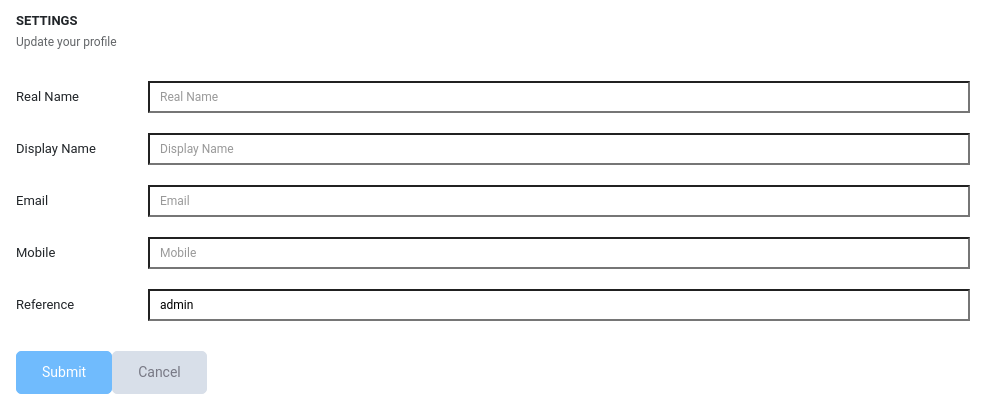
it: setting › should show a required field warning for each empty input field
Click the button "Submit". click: (64, 372)
box: [16,351,112,394]
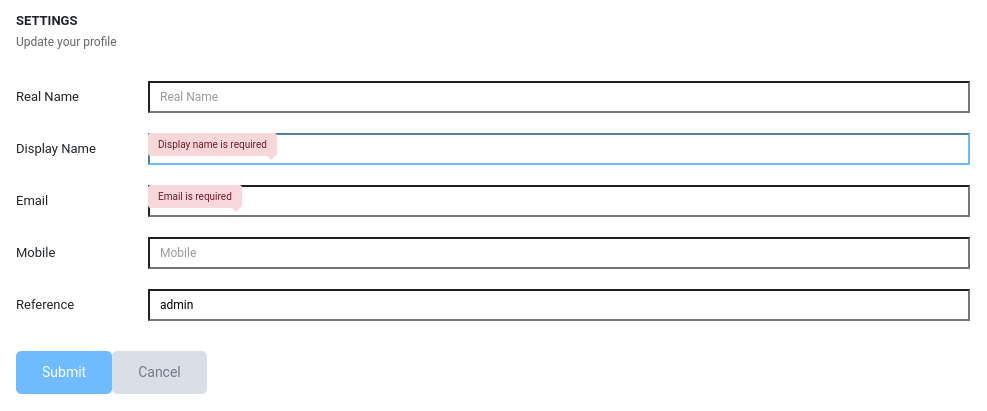
Now the text "Display name is required" is shown, box [148,133,277,156]
Now the text "Email is required" is shown, box [148,185,242,208]
